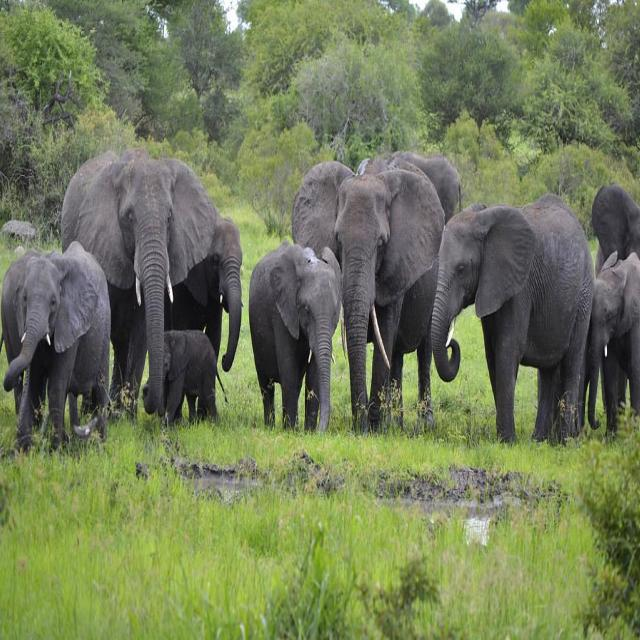Elephant: (58, 144, 242, 419), (430, 197, 598, 441), (292, 162, 438, 428), (0, 246, 114, 454), (248, 243, 340, 429), (579, 250, 639, 433), (152, 328, 224, 427)
